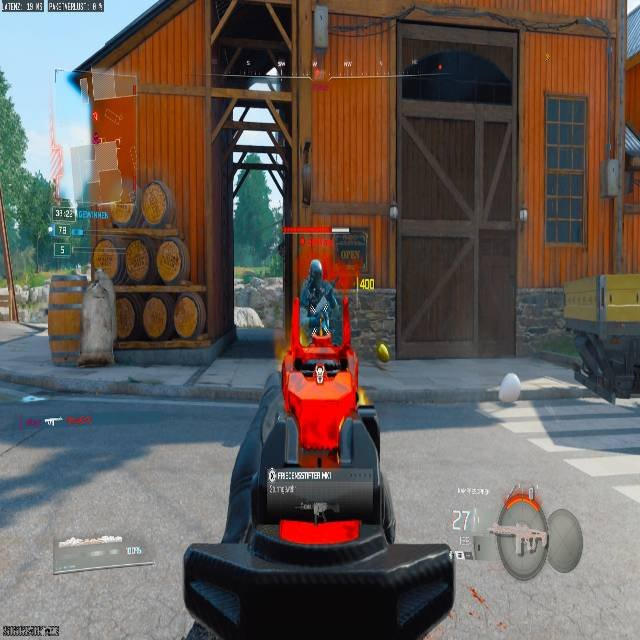head: (309, 260, 322, 279)
player: (301, 259, 339, 341), (305, 261, 326, 291)
